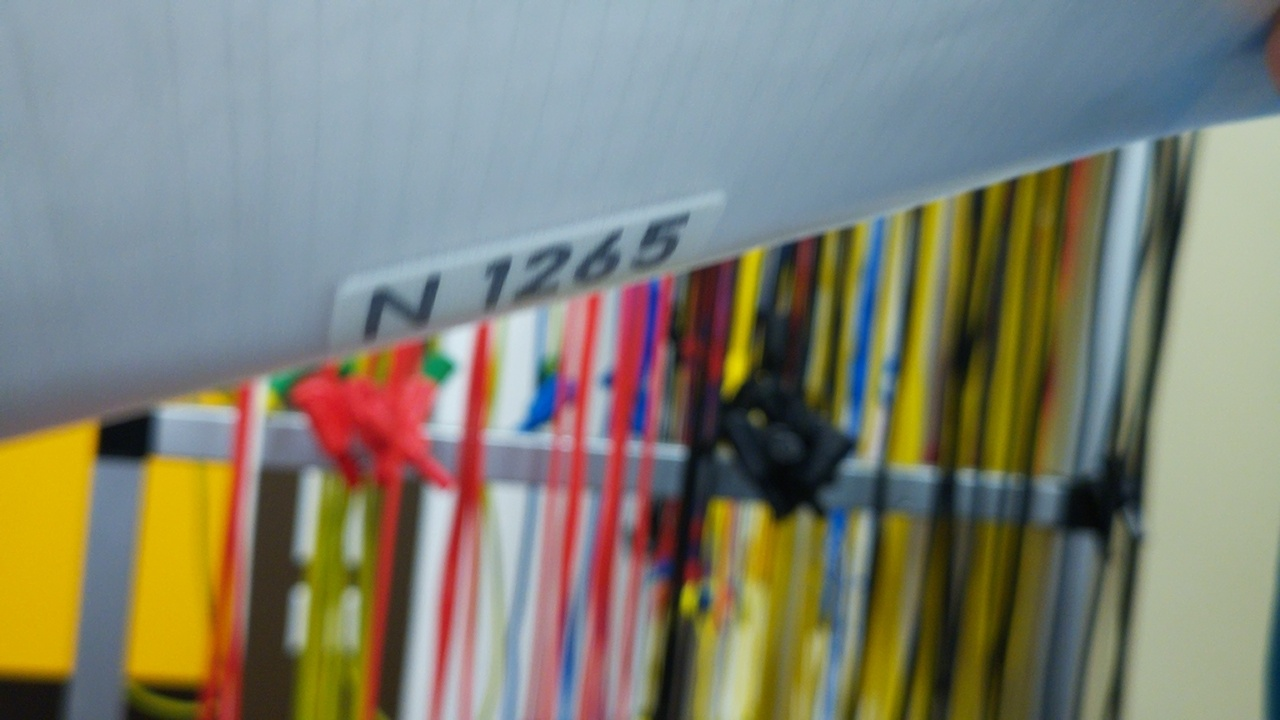license_plate: (323, 184, 735, 361)
